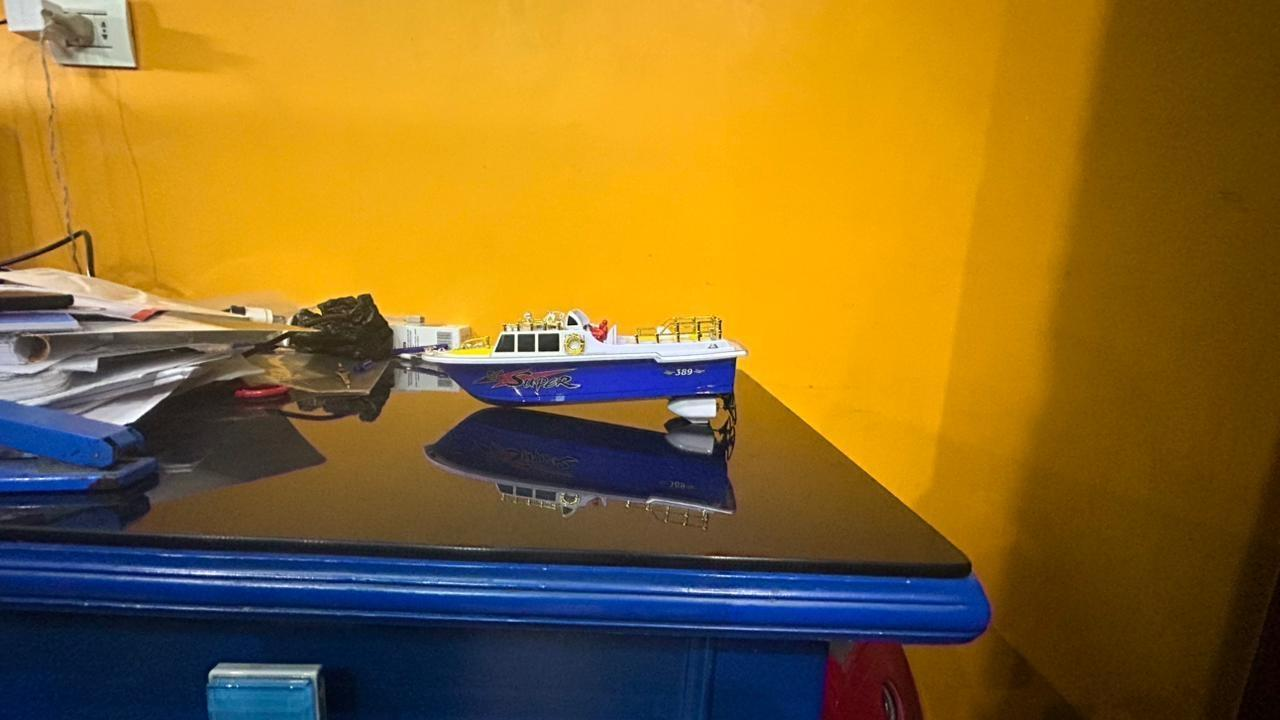Boat: (413, 306, 749, 436)
